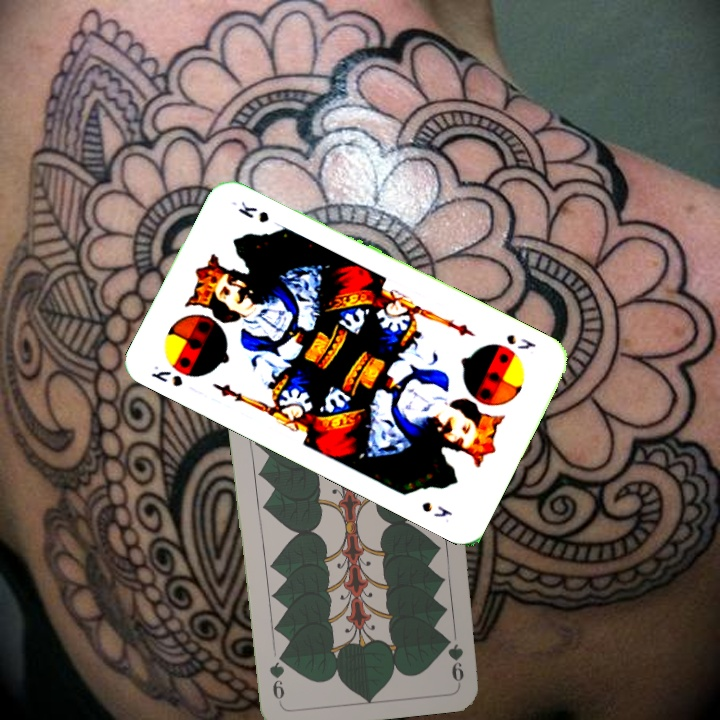G9: (446, 640, 467, 684)
SK: (146, 361, 185, 390), (502, 330, 539, 352)
